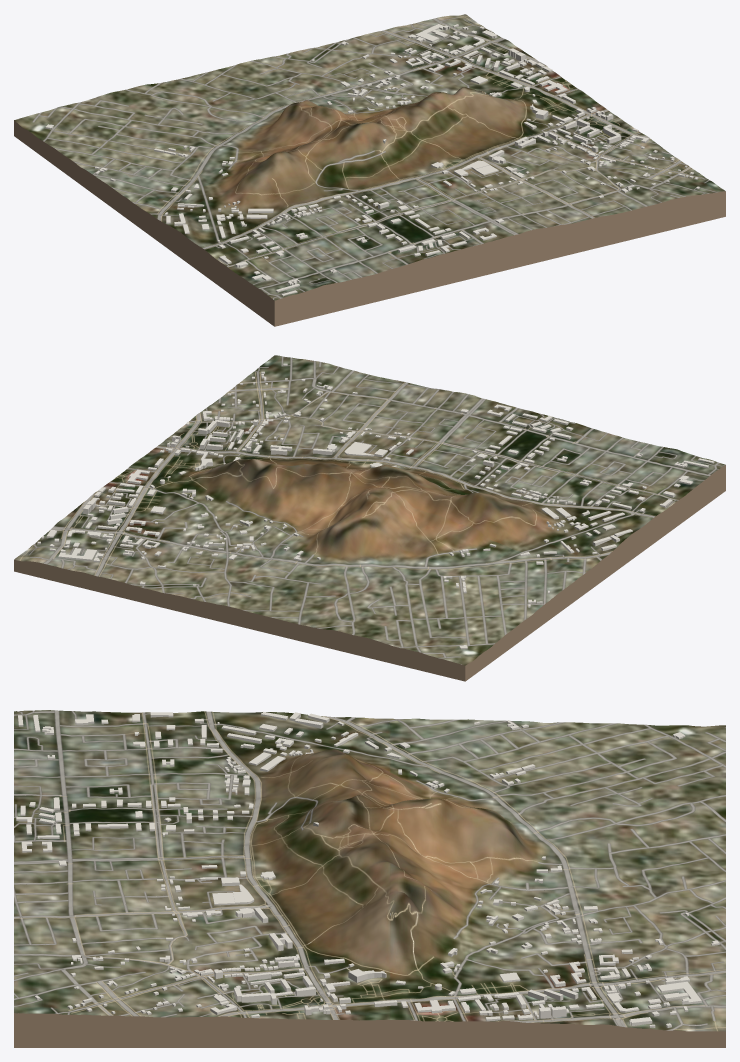
File: sulaiman-too.glb
The picture shows the model from 3 angles, top to bottom: view 1: azimuth 30°, elevation 25°; view 2: azimuth 150°, elevation 25°; view 3: azimuth 270°, elevation 25°; orthographic projection. The views are drawn at different scales.
Parts seen in each view (by area): view 1: Рельеф, Бока, Дома; view 2: Рельеф, Бока, Дома; view 3: Рельеф, Дома, Бока.
Part boxes in pixels (box(x1,y1,x2,y2)): Рельеф: box(14, 14, 725, 300); Бока: box(14, 120, 725, 326); Дома: box(45, 24, 699, 296); Рельеф: box(14, 355, 725, 665); Бока: box(14, 465, 725, 681); Дома: box(37, 363, 714, 649); Рельеф: box(14, 710, 725, 1031); Дома: box(16, 711, 719, 1027); Бока: box(14, 1013, 725, 1047).
Bounding box in the file's own units: 2000 × 260 × 2000.
Materials: 3 (1 with a texture image).
